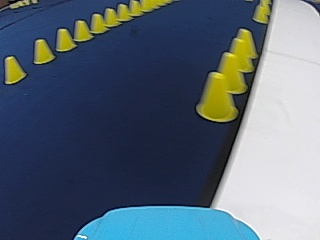cone: (195, 71, 237, 121), (214, 51, 245, 93), (228, 28, 257, 72), (3, 55, 25, 84), (32, 38, 54, 64), (55, 28, 75, 51), (73, 19, 91, 41), (252, 1, 268, 22), (90, 13, 106, 33), (103, 8, 119, 26), (116, 4, 130, 21), (128, 0, 141, 16), (141, 0, 152, 11)
